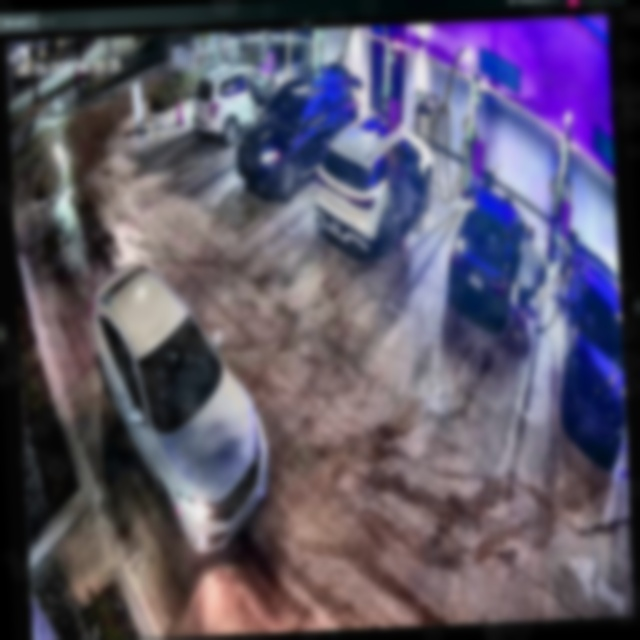Car: (85, 257, 273, 563), (311, 115, 438, 263), (236, 65, 363, 197), (444, 189, 530, 336), (191, 64, 289, 144)
